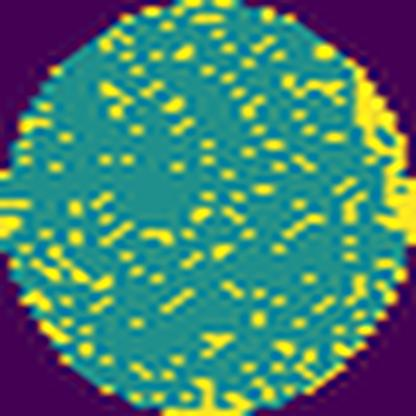Edge-Loc: (339, 54, 416, 250), (161, 374, 256, 416), (0, 213, 24, 239)
